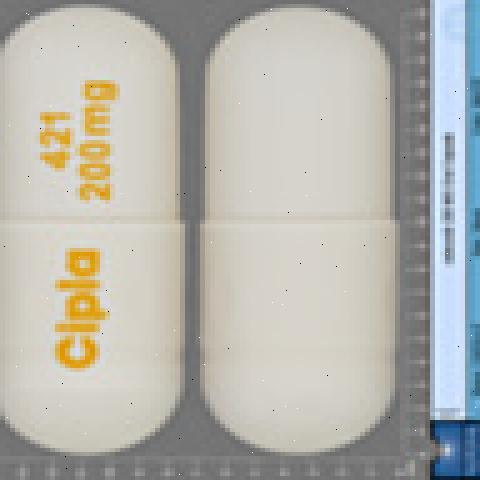Pill: (188, 10, 410, 466), (0, 1, 198, 467)
